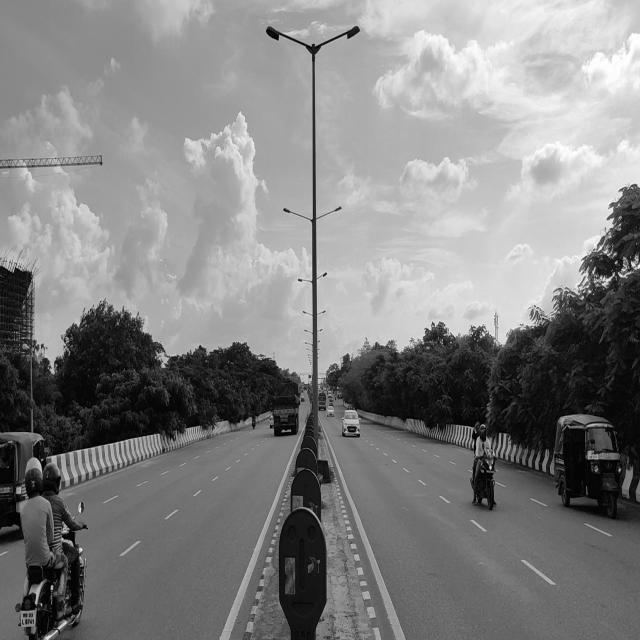bike: (19, 532, 86, 640), (468, 455, 499, 512)
